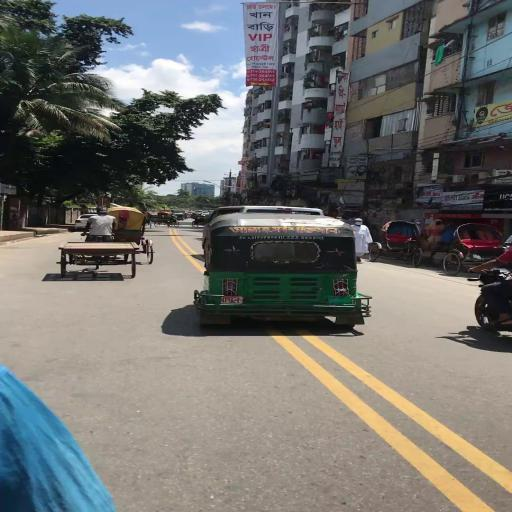rickshaw: (56, 207, 145, 281), (442, 223, 511, 276), (369, 219, 431, 270), (108, 206, 159, 265), (155, 212, 181, 229)
three wheelers (CNG): (194, 211, 373, 328)
